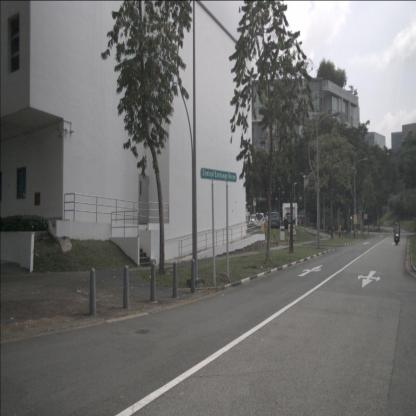vehicle-car: (254, 212, 267, 228), (284, 213, 296, 229), (269, 212, 280, 228), (248, 214, 258, 227), (266, 212, 273, 222), (298, 217, 304, 226)
vehicle-motorcycle: (393, 222, 400, 245)
